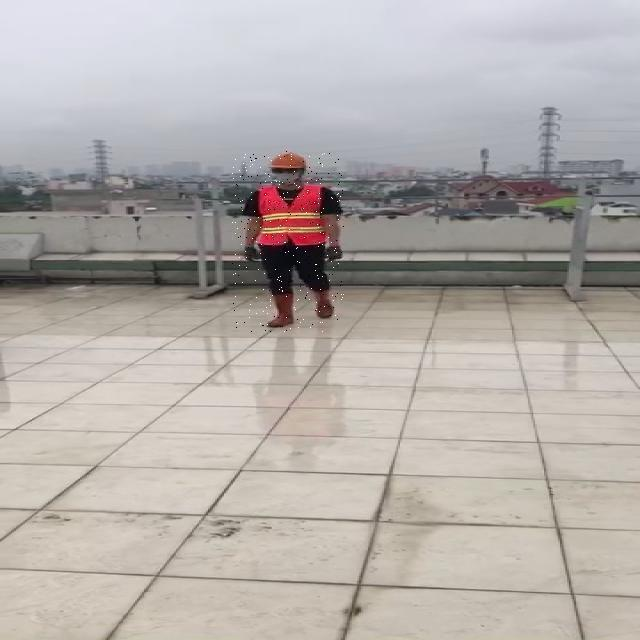gloves: (325, 245, 343, 262), (244, 247, 259, 262)
goggles: (271, 169, 297, 174)
helmet: (268, 150, 310, 169)
safety_vest: (254, 185, 326, 245)
